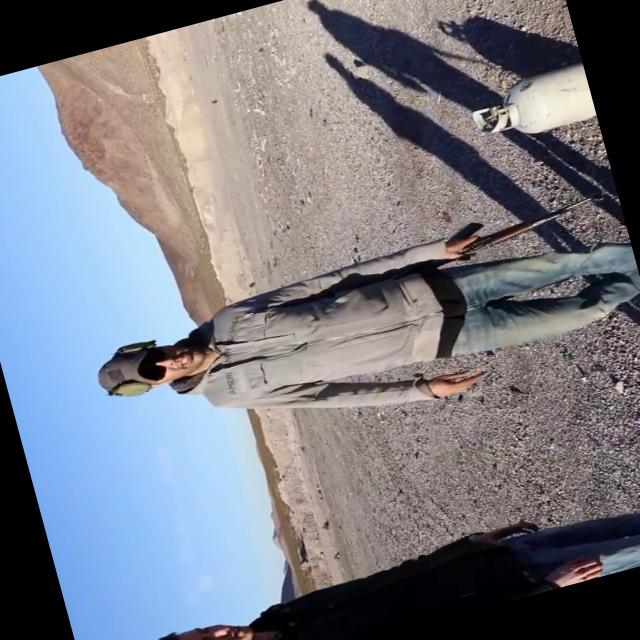long weapon: (337, 175, 612, 298)
